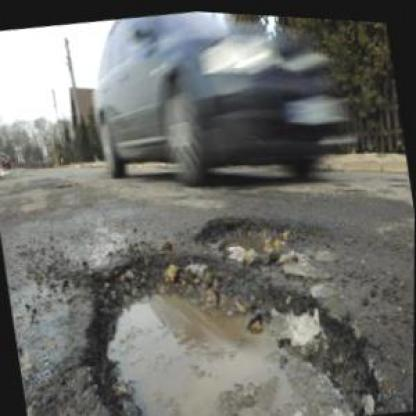pothole: (65, 204, 394, 414), (190, 193, 334, 277)
